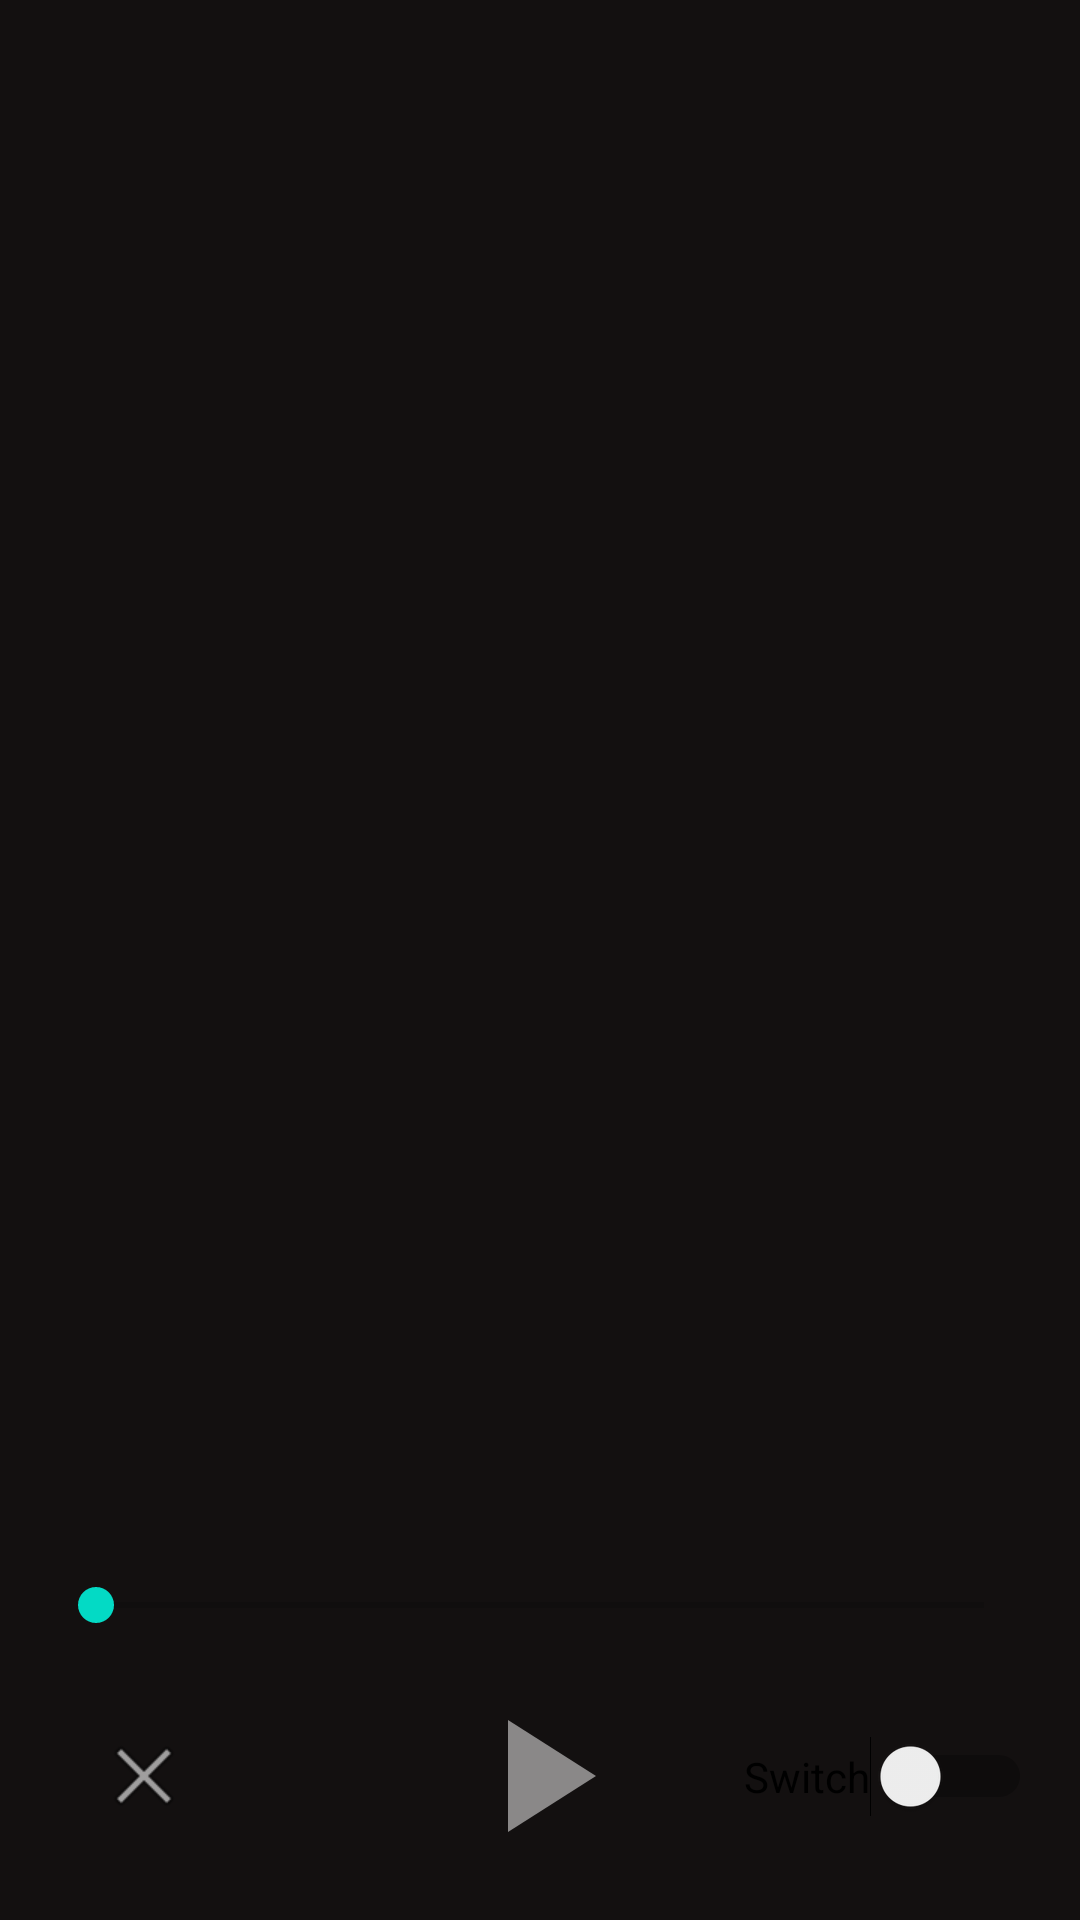

Where icons sit on this 1080×1920 app screen, as Rect(x1, y1, x2, y2):
close clear cancel: Rect(117, 1749, 171, 1803)
play arrow: Rect(508, 1720, 596, 1832)
